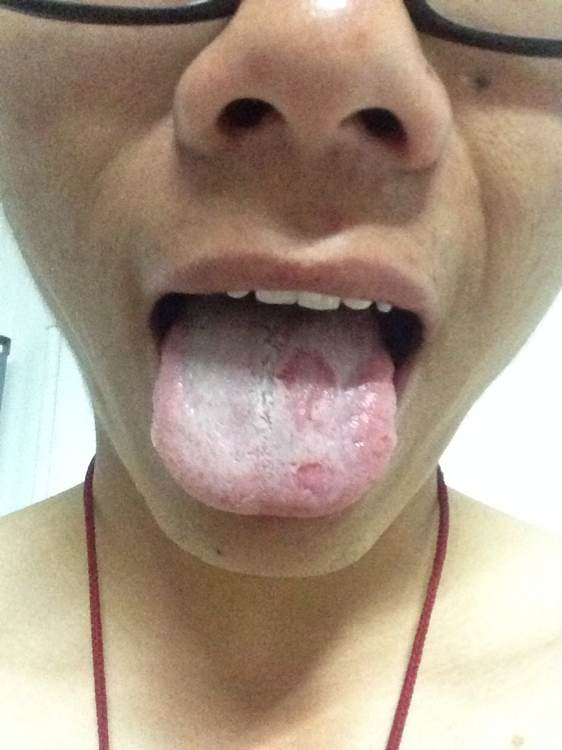baitaishe: (152, 296, 397, 518)
botaishe: (265, 341, 340, 504)
liewenshe: (250, 319, 276, 433)
